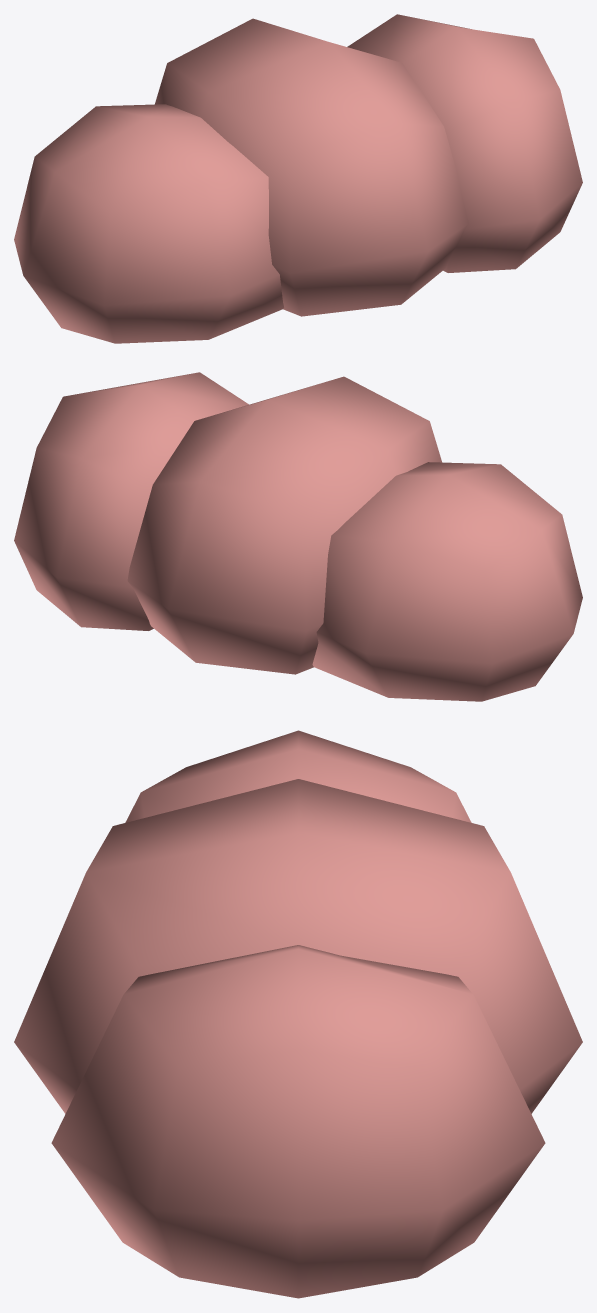
The model's file is bush1.glb.
3 views of the same model, one above another, from view 1: azimuth 30°, elevation 25°; view 2: azimuth 150°, elevation 25°; view 3: azimuth 270°, elevation 25° (orthographic). The views are drawn at different scales.
Parts seen in each view (by area): view 1: Cube; view 2: Cube; view 3: Cube.
Boxes of the visible parts, x1,y1,x2,y2 form: Cube: [14, 14, 582, 343]; Cube: [14, 372, 582, 701]; Cube: [14, 730, 582, 1298].
Bounding box in the file's own units: 2.39 × 0.9773 × 1.47.
1 material, 1 textured.
